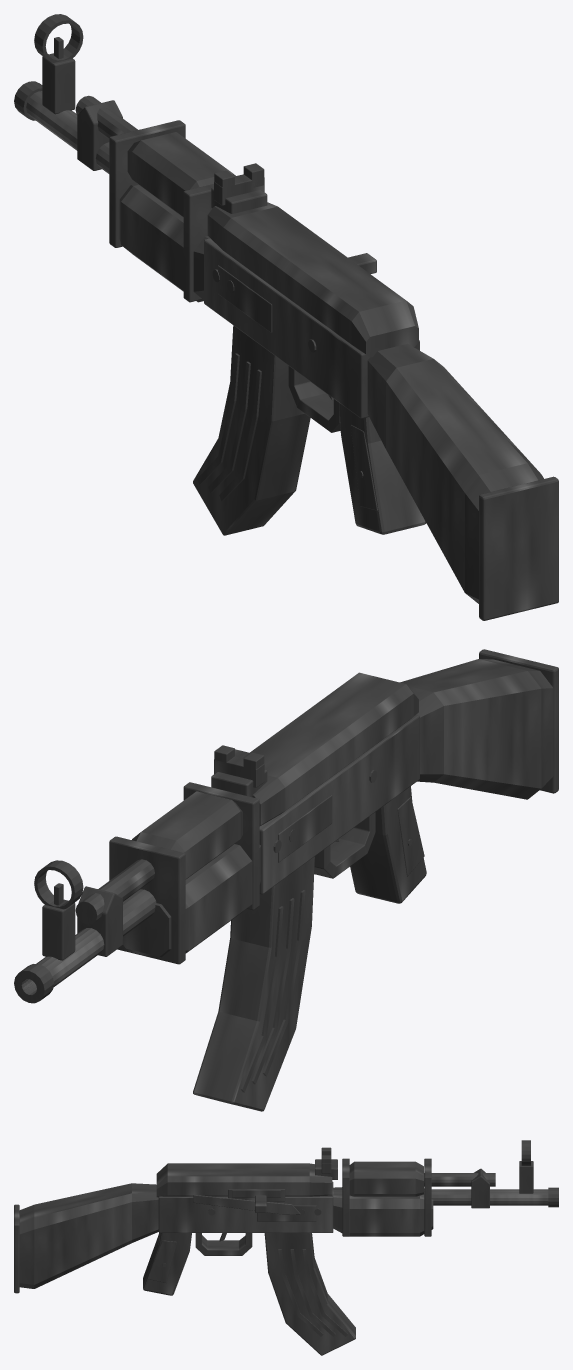
3 views of the same model, one above another, from view 1: azimuth 30°, elevation 25°; view 2: azimuth 150°, elevation 25°; view 3: azimuth 270°, elevation 25° (orthographic). The views are drawn at different scales.
Parts seen in each view (by area): view 1: ak47_Body, ak47_Magazine; view 2: ak47_Body, ak47_Magazine; view 3: ak47_Body, ak47_Magazine, ak47_Bolt.
Boxes of the visible parts, bbox=[...] form: ak47_Body: bbox=[14, 14, 558, 620]; ak47_Magazine: bbox=[193, 325, 310, 535]; ak47_Body: bbox=[14, 649, 558, 1003]; ak47_Magazine: bbox=[193, 856, 314, 1111]; ak47_Body: bbox=[14, 1140, 558, 1295]; ak47_Magazine: bbox=[264, 1233, 355, 1355]; ak47_Bolt: bbox=[232, 1190, 281, 1212].
Size of the model in its own units: 0.1755 by 0.566 by 1.34.
4 materials, 4 textured.
